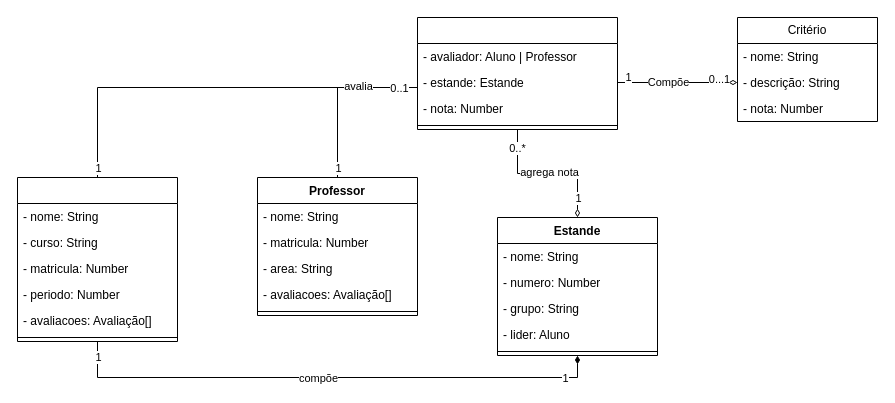
Some shapes in this 895 by 403 pixel diagram are drawn without their labels. The box of each missing label's shape, as (x1, y1, x2, y2) in pixels:
Aluno: (16, 176, 178, 342)
Avaliação: (416, 16, 618, 130)
